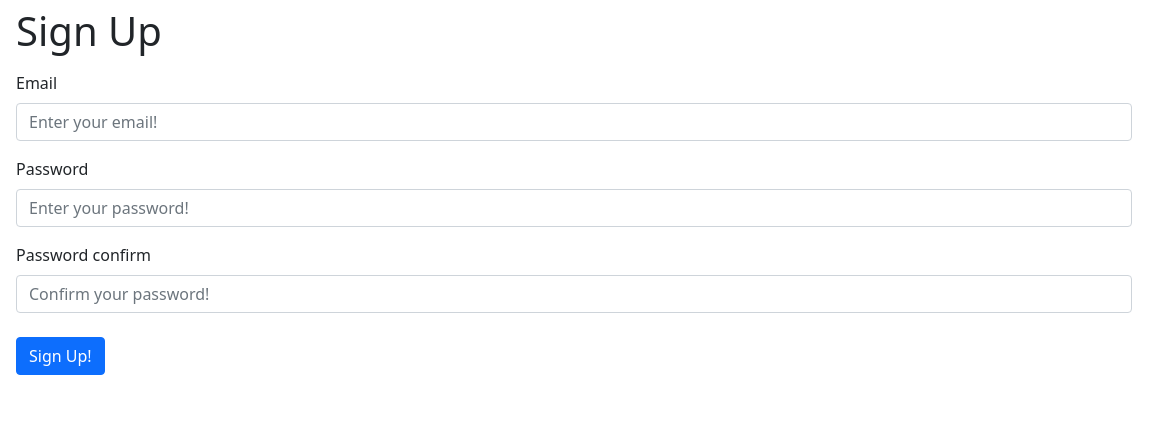
Test: signup page tests › When passwords do not match and submit is pushed, "Passwords must match" should appear
The width and height of the screenshot is (1149, 442).
Type "1" into the password field labelled "Password".
click(574, 208); type("1")  # box [16,189,1132,227]
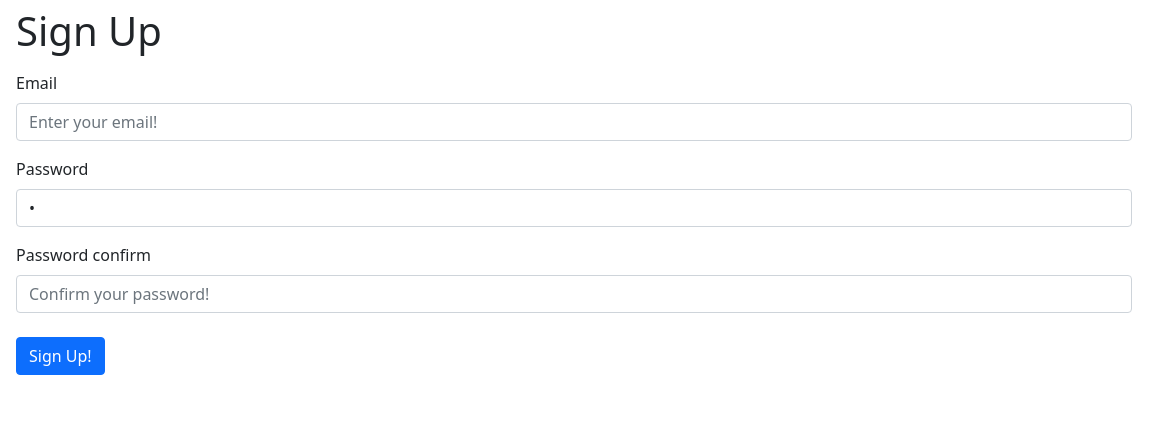
Type "123" into the password field labelled "Password confirm".
click(574, 294); type("123")  # box [16,275,1132,313]
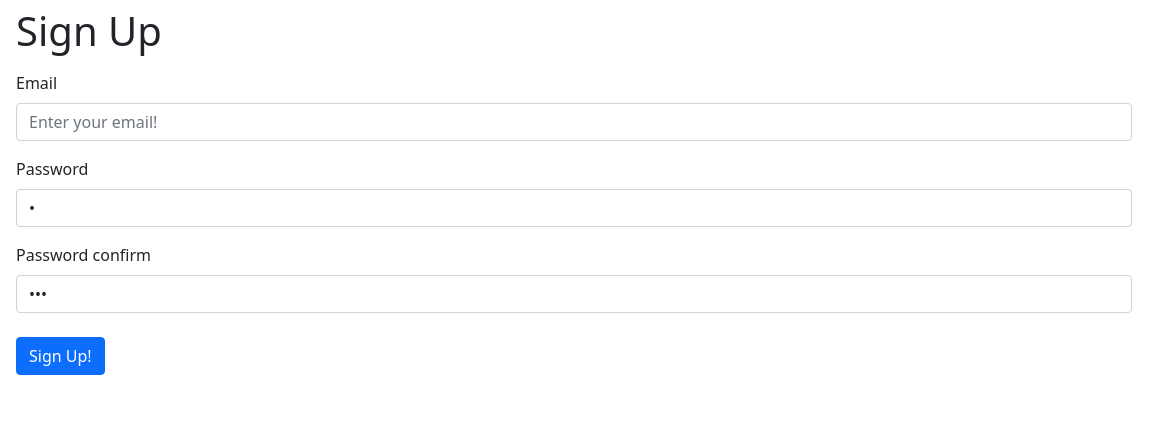
Click the button "Sign Up!".
click(60, 356)  # box [16,337,105,375]
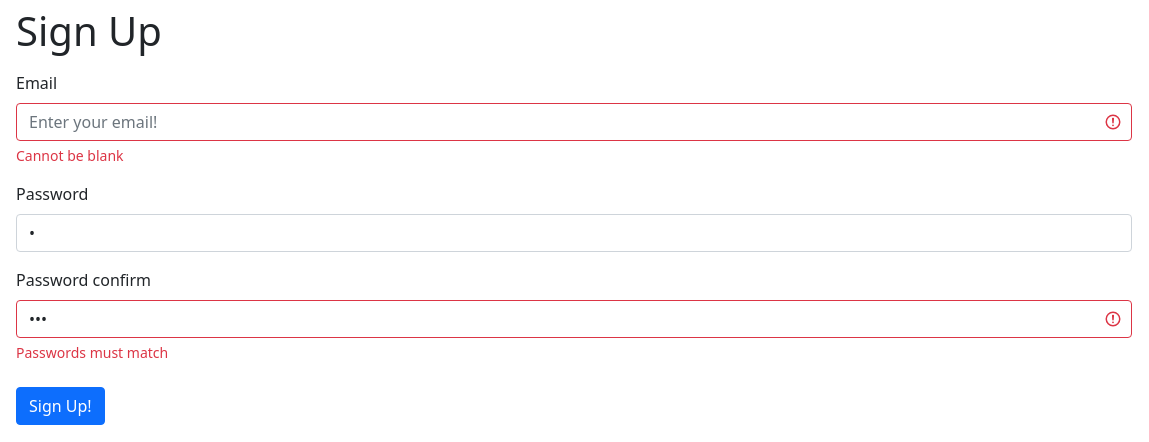
expect the element with test id "input" shows "Passwords must match": met, box [16,343,168,362]
